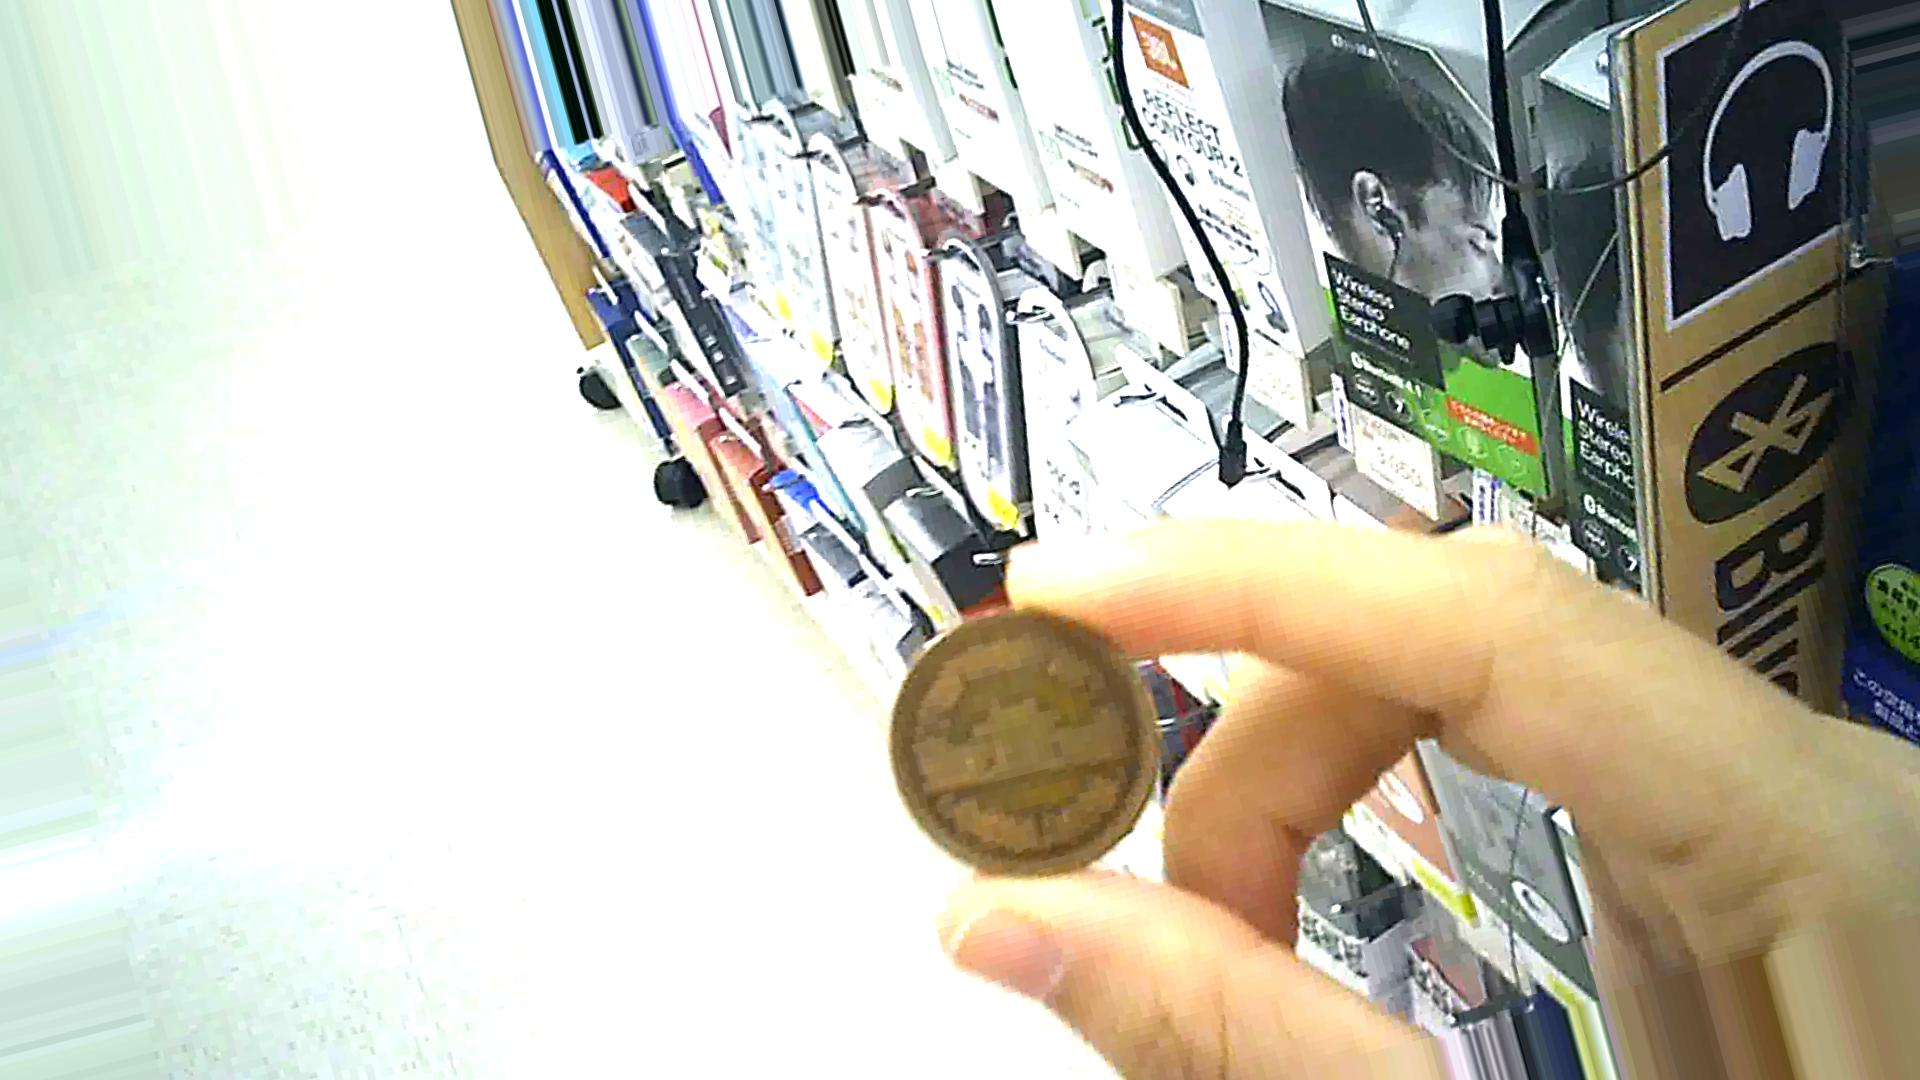10 Yen: (874, 575, 1179, 884)
